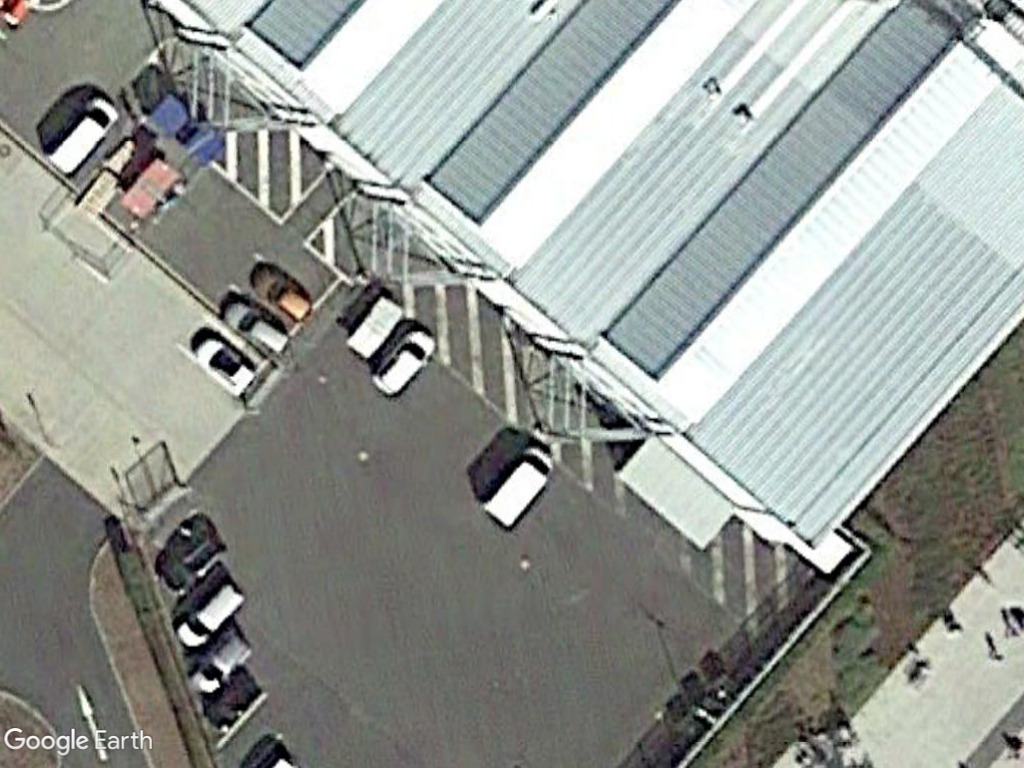car: (172, 574, 252, 656), (364, 326, 442, 401), (217, 297, 294, 361), (193, 336, 263, 402)
van: (476, 446, 562, 534), (42, 91, 124, 180)
